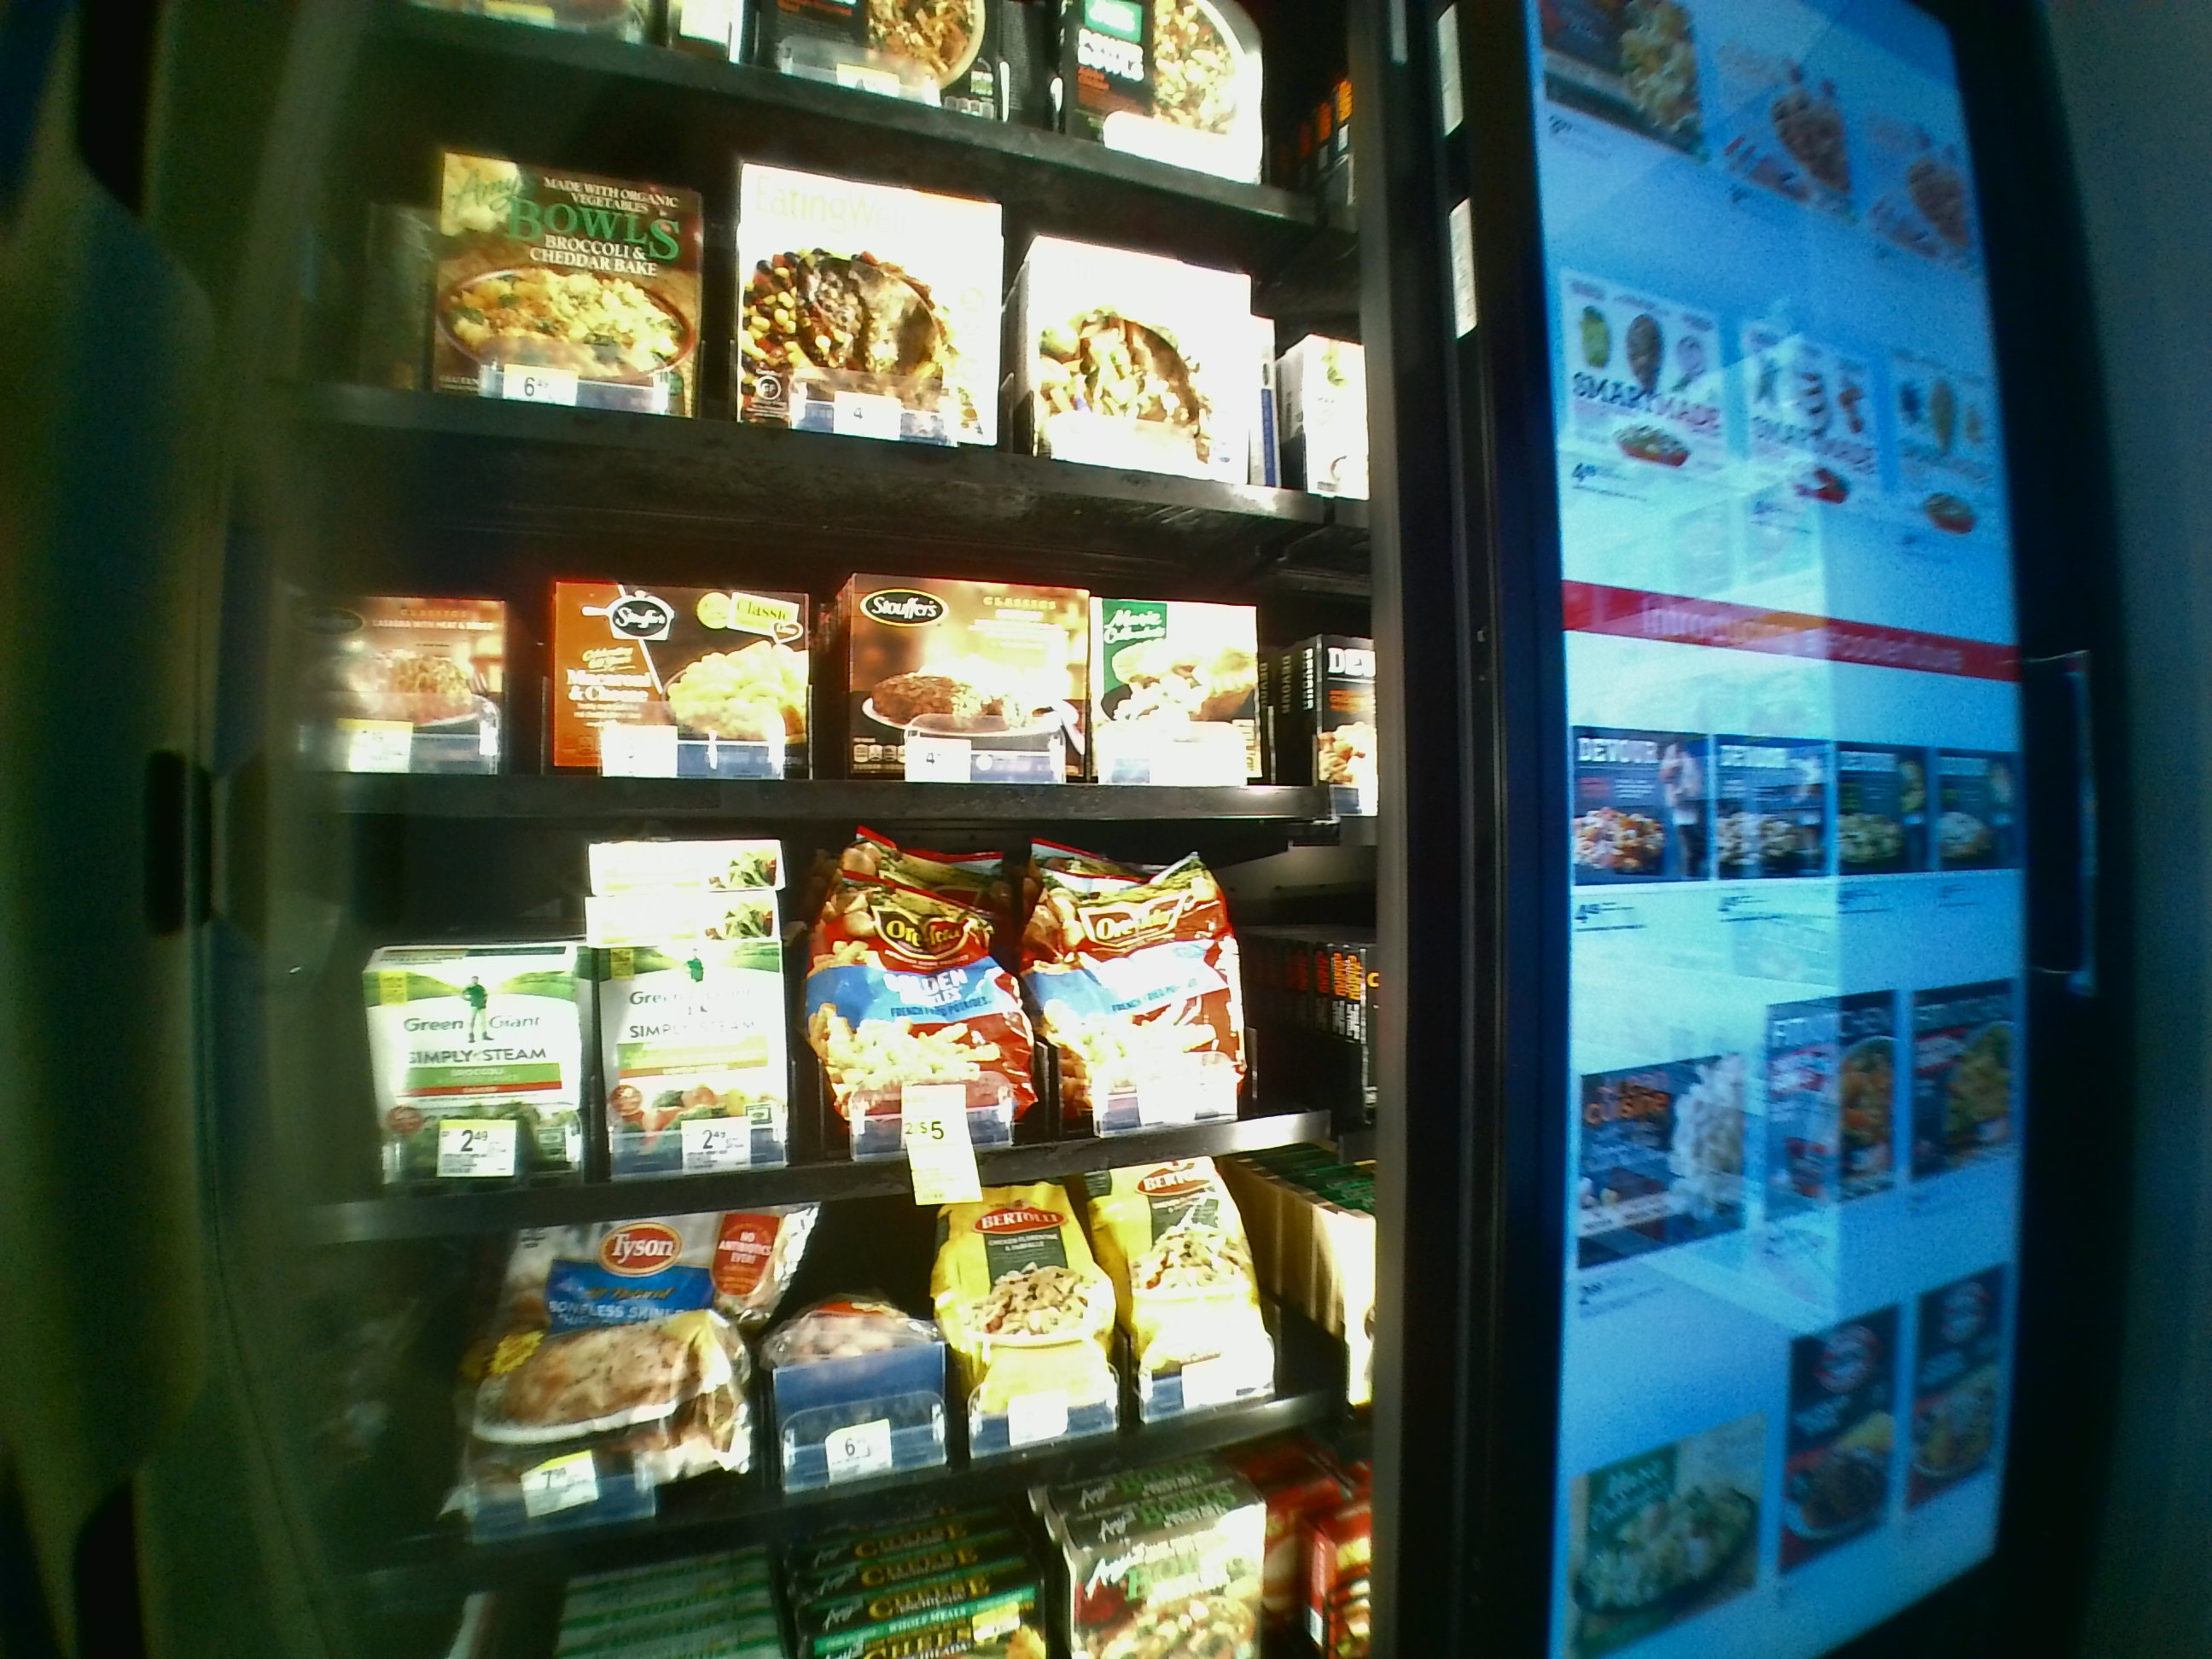shelf: (298, 828, 1366, 1241), (296, 432, 1367, 819)
